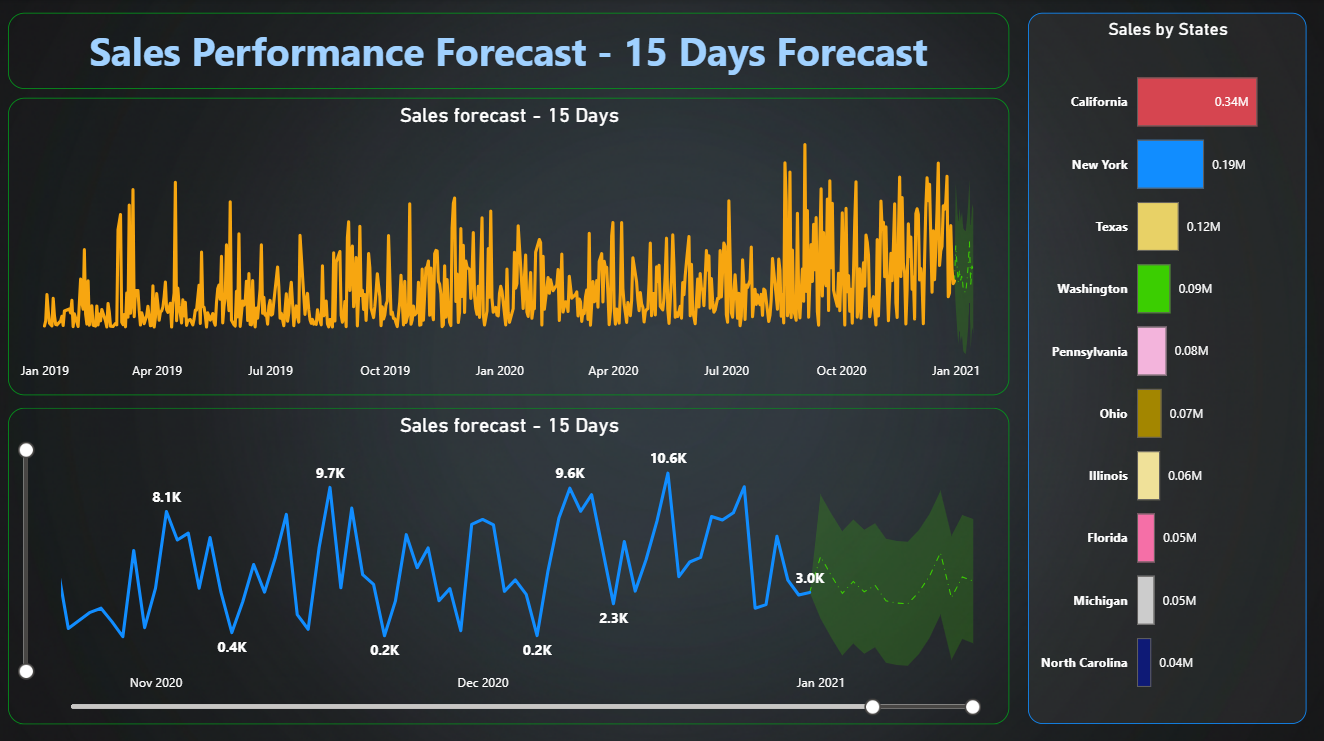

What the dashboard file says about the page in this screenshot:
{"tool":"powerbi","page":{"name":"Sales Forecast","canvas":[1280,720],"ordinal":1},"visuals":[{"type":"lineChart","title":"Sales forecast - 15 Days","fields":{"Y":["Sum(SuperStore_Sales_Dataset.Sales)"],"Category":["SuperStore_Sales_Dataset.Order Date"]},"box":[9.7,95.3,966.4,287.1],"z":0},{"type":"lineChart","title":"Sales forecast - 15 Days","fields":{"Y":["Sum(SuperStore_Sales_Dataset.Sales)"],"Category":["SuperStore_Sales_Dataset.Order Date"]},"box":[9.7,394.5,966.4,305.2],"z":1000},{"type":"clusteredBarChart","title":"Sales by States","fields":{"Category":["SuperStore_Sales_Dataset.State"],"Y":["Sum(SuperStore_Sales_Dataset.Sales)"]},"box":[994.1,13.3,269,686.5],"z":2000},{"type":"textbox","box":[9.7,13.3,966.4,73.6],"z":3000}]}

Visuals, with their boxes in screenshot pixels (x1, y1, x2, y2), scaled from the page's 1280x720 canvas onto the 1324x741 screenshot:
"Sales forecast - 15 Days" lineChart: bbox=(10, 98, 1010, 394)
"Sales forecast - 15 Days" lineChart: bbox=(10, 406, 1010, 720)
"Sales by States" clusteredBarChart: bbox=(1028, 14, 1307, 720)
textbox: bbox=(10, 14, 1010, 89)
